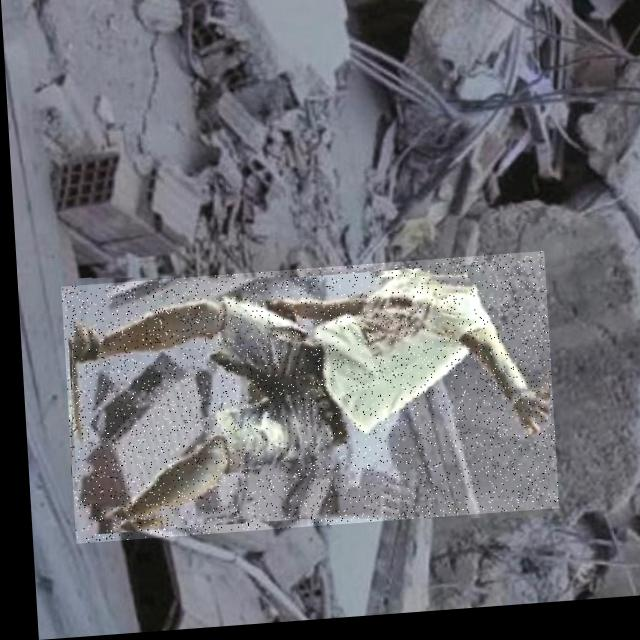Person in Rubble: (57, 259, 551, 544)
